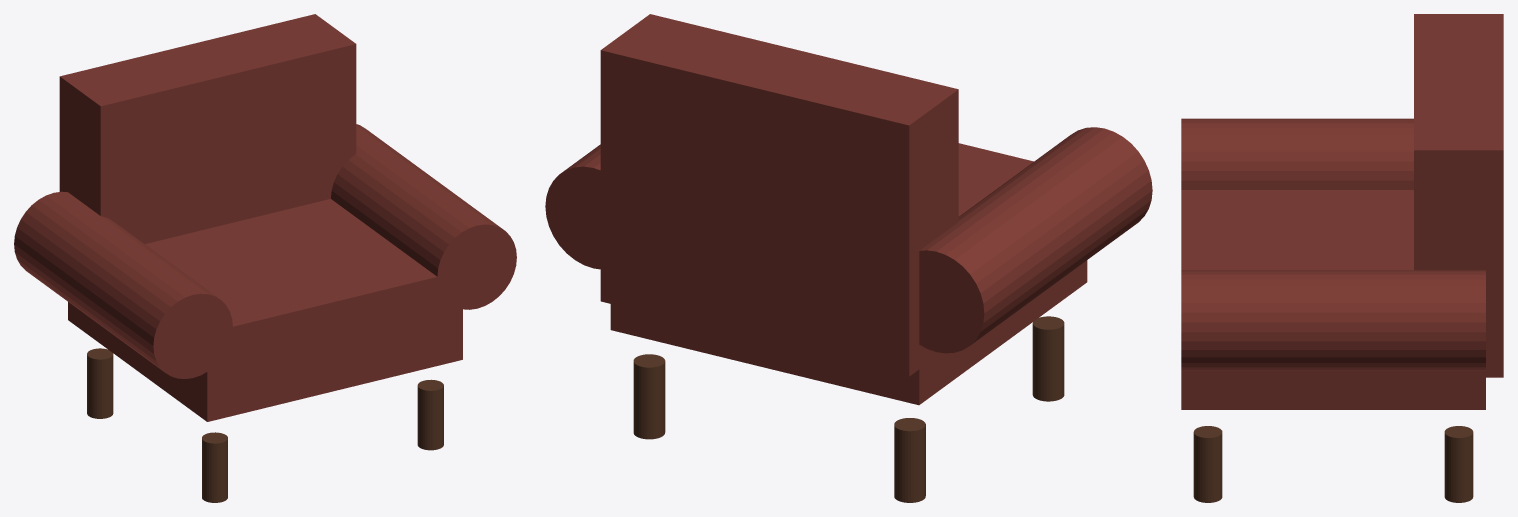
The model's file is audiobook_chesterfield.glb.
3 views of the same model, side by side, from view 1: azimuth 30°, elevation 25°; view 2: azimuth 150°, elevation 25°; view 3: azimuth 270°, elevation 25° (orthographic). The views are drawn at different scales.
Parts seen in each view (by area): view 1: Audiobook_Chesterfield_Armchair; view 2: Audiobook_Chesterfield_Armchair; view 3: Audiobook_Chesterfield_Armchair.
Boxes of the visible parts, box(x1,y1,x2,y2) form: Audiobook_Chesterfield_Armchair: box(14, 14, 516, 502); Audiobook_Chesterfield_Armchair: box(545, 14, 1152, 502); Audiobook_Chesterfield_Armchair: box(1181, 14, 1503, 502).
Bounding box in the file's own units: 1.28 × 1.1 × 0.9.
